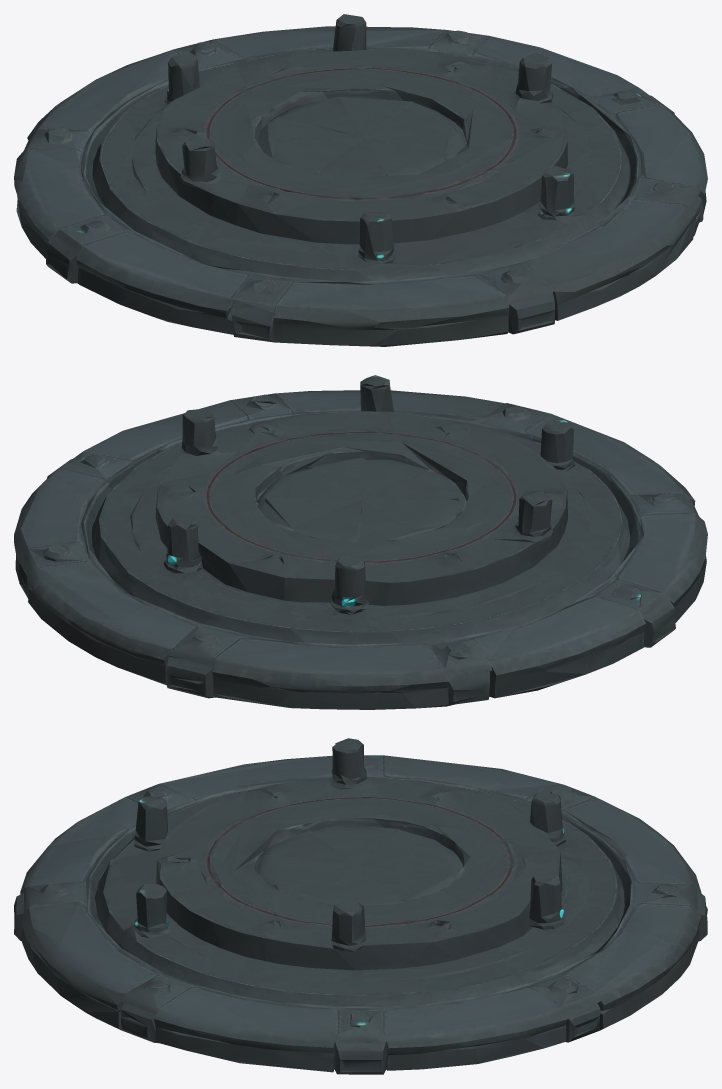
File: teleporter.glb
3 renders of one model, top to bottom at view 1: azimuth 30°, elevation 25°; view 2: azimuth 150°, elevation 25°; view 3: azimuth 270°, elevation 25°, orthographic.
Bounding box in the file's own units: 7.04 × 1.2 × 7.04.
Materials: 1 (1 with a texture image).
